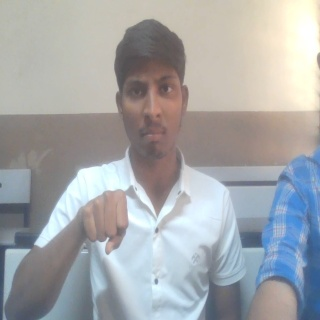Face: (114, 19, 190, 162)
Yes: (72, 188, 131, 255)
